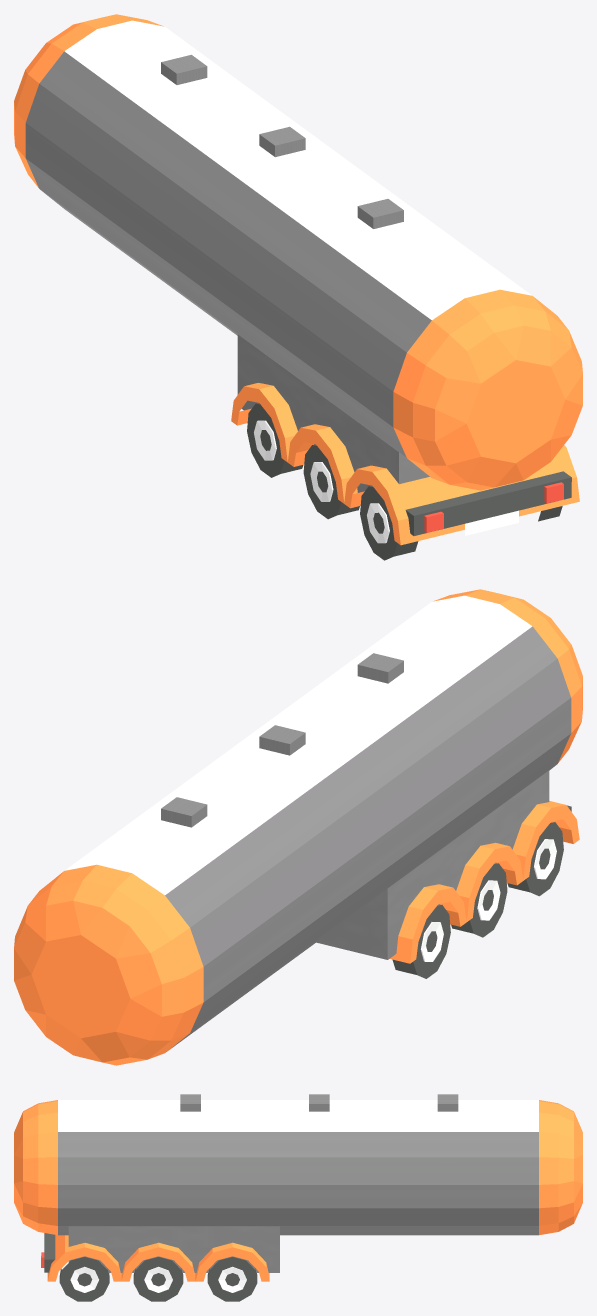
Rendered from transport_truck.013.glb.
3 views of the same model, one above another, from view 1: azimuth 30°, elevation 25°; view 2: azimuth 150°, elevation 25°; view 3: azimuth 270°, elevation 25° (orthographic). The views are drawn at different scales.
Visible parts, largest first — view 1: transport_truck.013(Clone); view 2: transport_truck.013(Clone); view 3: transport_truck.013(Clone).
Boxes of the visible parts, bbox=[...] form: transport_truck.013(Clone): bbox=[14, 14, 582, 560]; transport_truck.013(Clone): bbox=[14, 589, 582, 1065]; transport_truck.013(Clone): bbox=[14, 1094, 582, 1301].
Size of the model in its own units: 1.77 by 2.54 by 7.45.
1 material, 1 textured.
